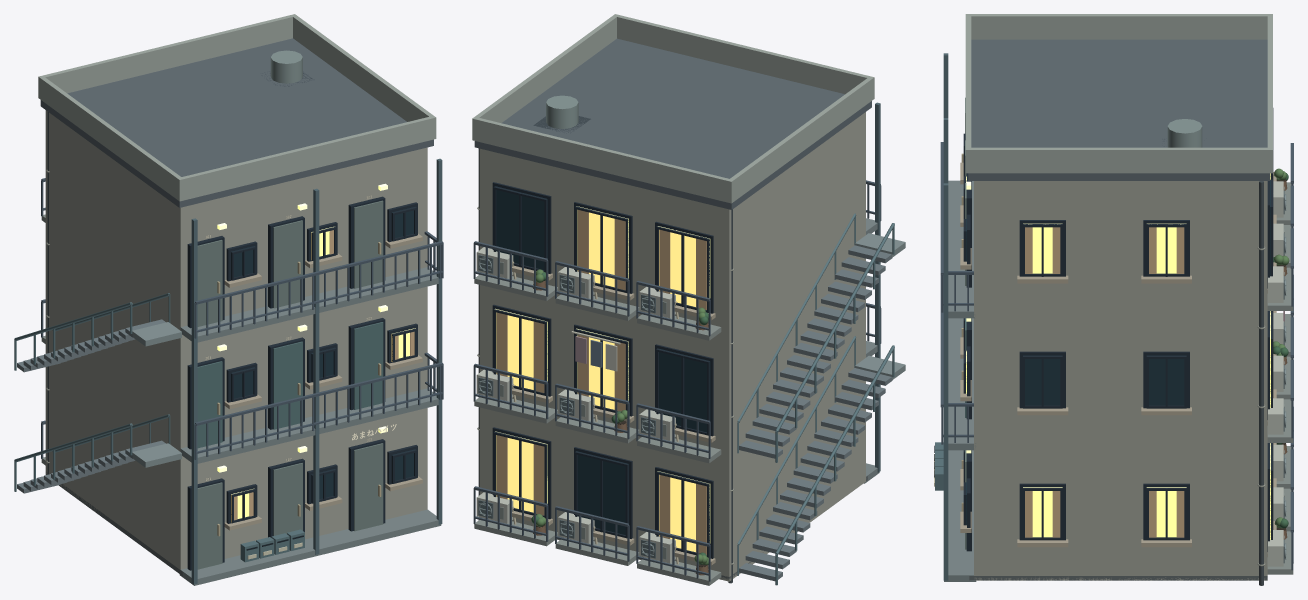
Rendered from apartment.glb.
3 renders of one model, left to right at view 1: azimuth 30°, elevation 25°; view 2: azimuth 150°, elevation 25°; view 3: azimuth 270°, elevation 25°, orthographic. The views are drawn at different scales.
Parts seen in each view (by area): view 1: 雨音公寓, Group_268, Group_508, Group_37, Group_250, Group_492, Group_234, Group_474, Group_3, Group_458, Group_218, Group_21 (+9 smaller); view 2: 雨音公寓, Group_408, Group_581, Group_128, Group_337, Group_612, Group_157, Group_543, Group_90, Group_366, Group_555, Group_102 (+16 smaller); view 3: 雨音公寓, Group_195, Group_439, Group_206, Group_448, Group_648, Group_659, Group_408, Group_157, Group_612, Group_508, Group_179 (+7 smaller).
Boxes of the visible parts, x1,y1,x2,y2 form: 雨音公寓: (14,14,442,585); Group_268: (194,362,443,459); Group_508: (194,241,443,338); Group_37: (348,439,385,531); Group_250: (348,318,385,410); Group_492: (348,196,385,288); Group_234: (268,337,304,429); Group_474: (268,216,304,308); Group_3: (187,478,224,570); Group_458: (187,236,224,328); Group_218: (187,357,224,449); Group_21: (268,458,304,537); 雨音公寓: (472,14,905,585); Group_408: (492,304,552,403); Group_581: (574,202,634,300); Group_128: (574,447,634,545); Group_337: (655,344,715,442); Group_612: (492,182,552,280); Group_157: (492,427,552,525); Group_543: (655,221,715,320); Group_90: (655,467,715,565); Group_366: (574,324,634,422); Group_555: (636,281,710,336); Group_102: (636,526,710,581); 雨音公寓: (934,14,1293,585); Group_195: (1017,483,1068,547); Group_439: (1017,351,1068,415); Group_206: (1141,483,1191,547); Group_448: (1141,351,1191,415); Group_648: (1017,220,1068,283); Group_659: (1141,220,1191,283); Group_408: (1267,311,1276,425); Group_157: (1267,443,1276,556); Group_612: (1267,179,1276,293); Group_508: (940,142,943,312); Group_179: (1268,530,1286,566).
Size of the model in its own units: 8.04 by 10.5 by 7.85.
Materials: 52 (10 with a texture image).
